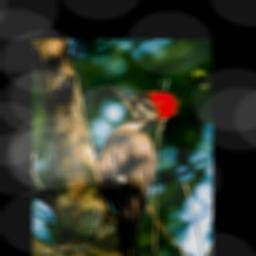Woodpecker: (88, 86, 179, 256)
